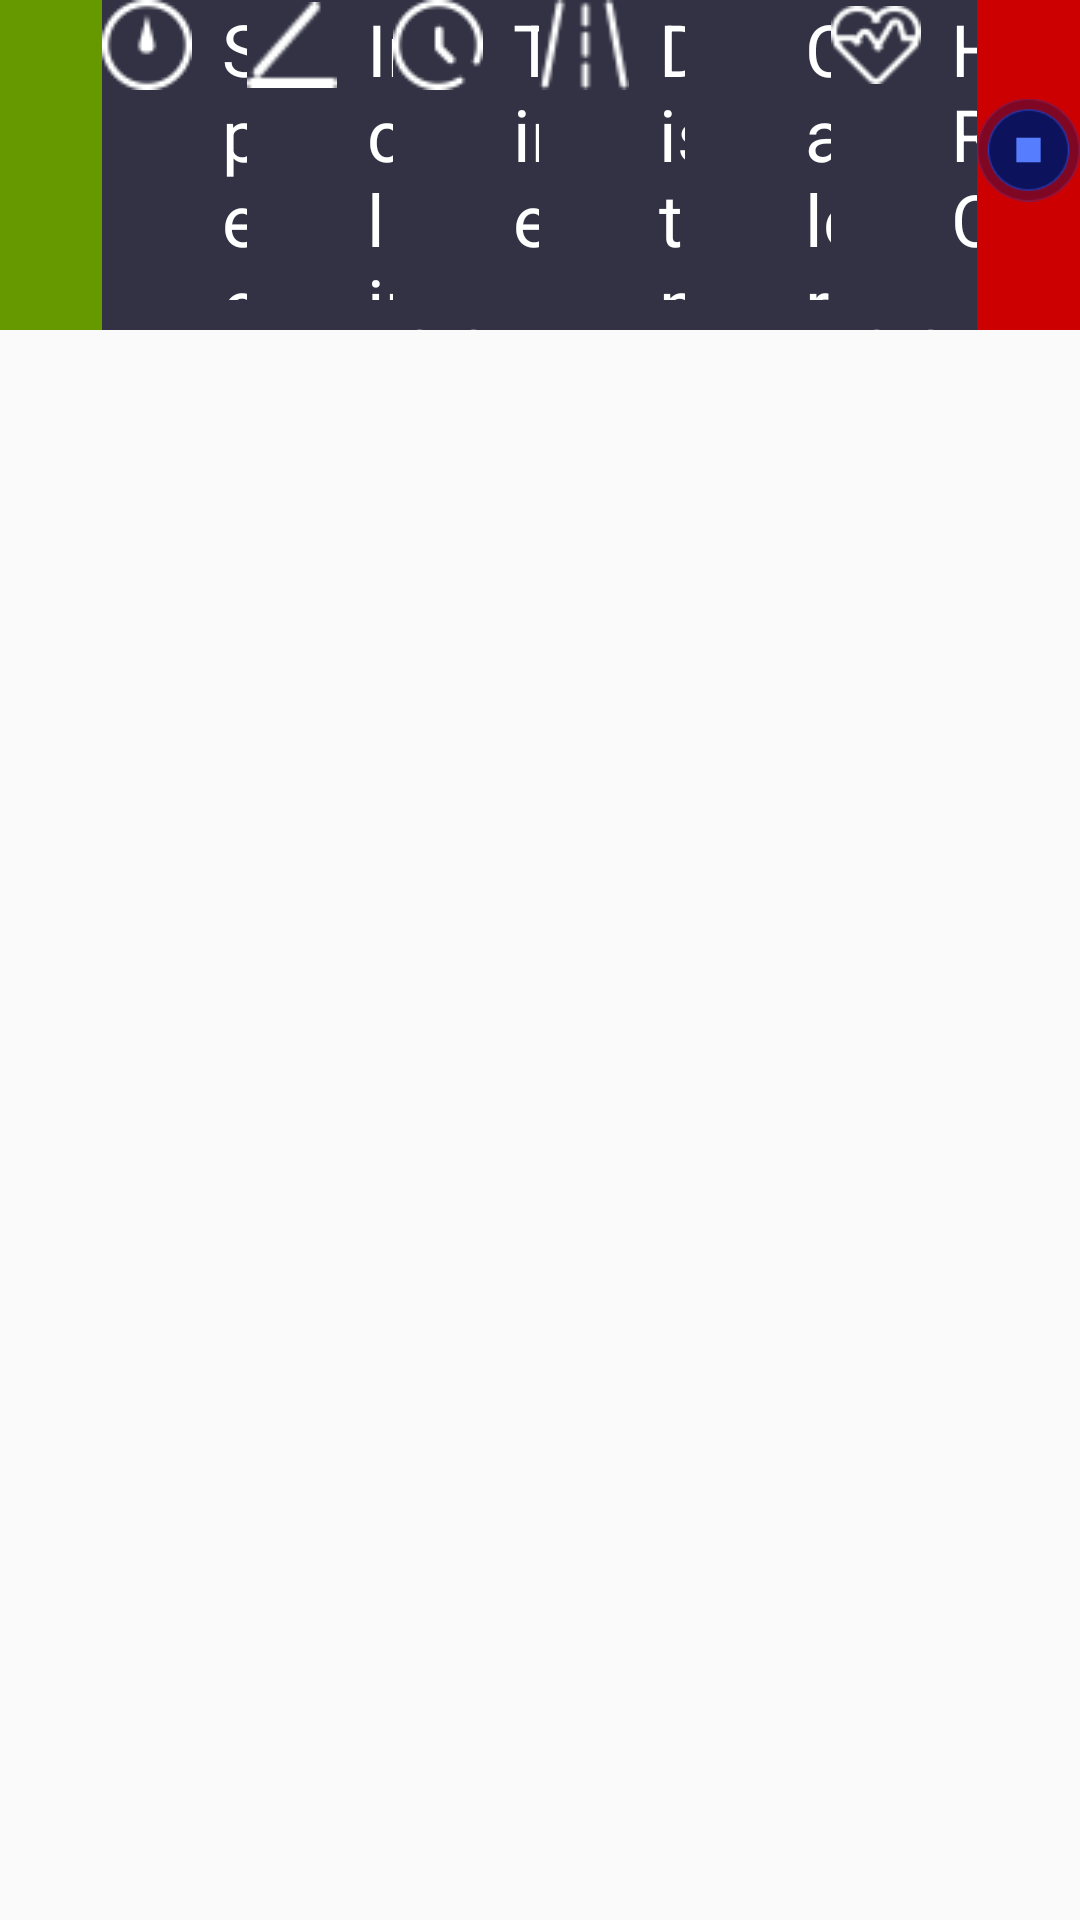

Named icons in this screenshot (1080 × 1920) and their bounding boxes, [x1,y1,x2,y2]:
suspension heart: [831,6,921,84]
suspension mileage: [541,0,629,90]
suspension sloped: [247,2,337,88]
suspension stop: [977,99,1080,202]
